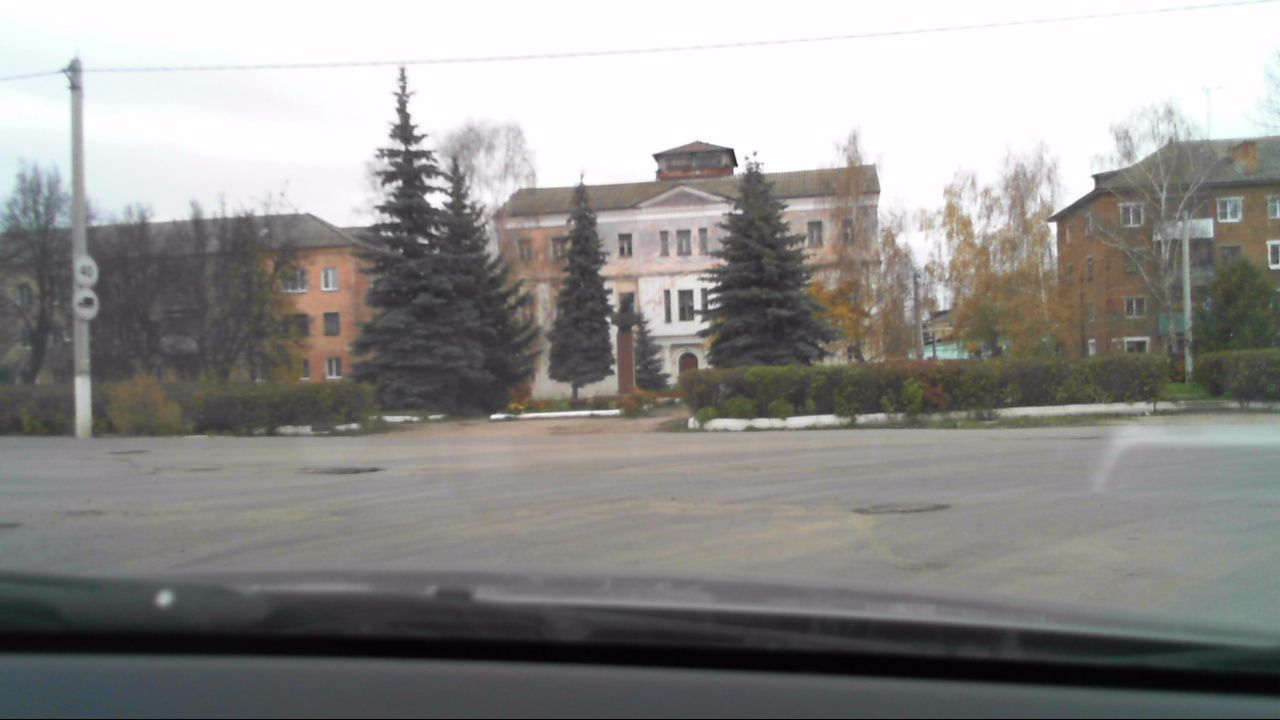speed_warning_40: (72, 253, 98, 283)
